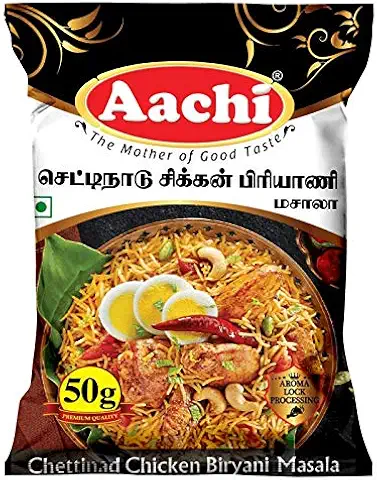Biryani: (3, 4, 377, 480)
